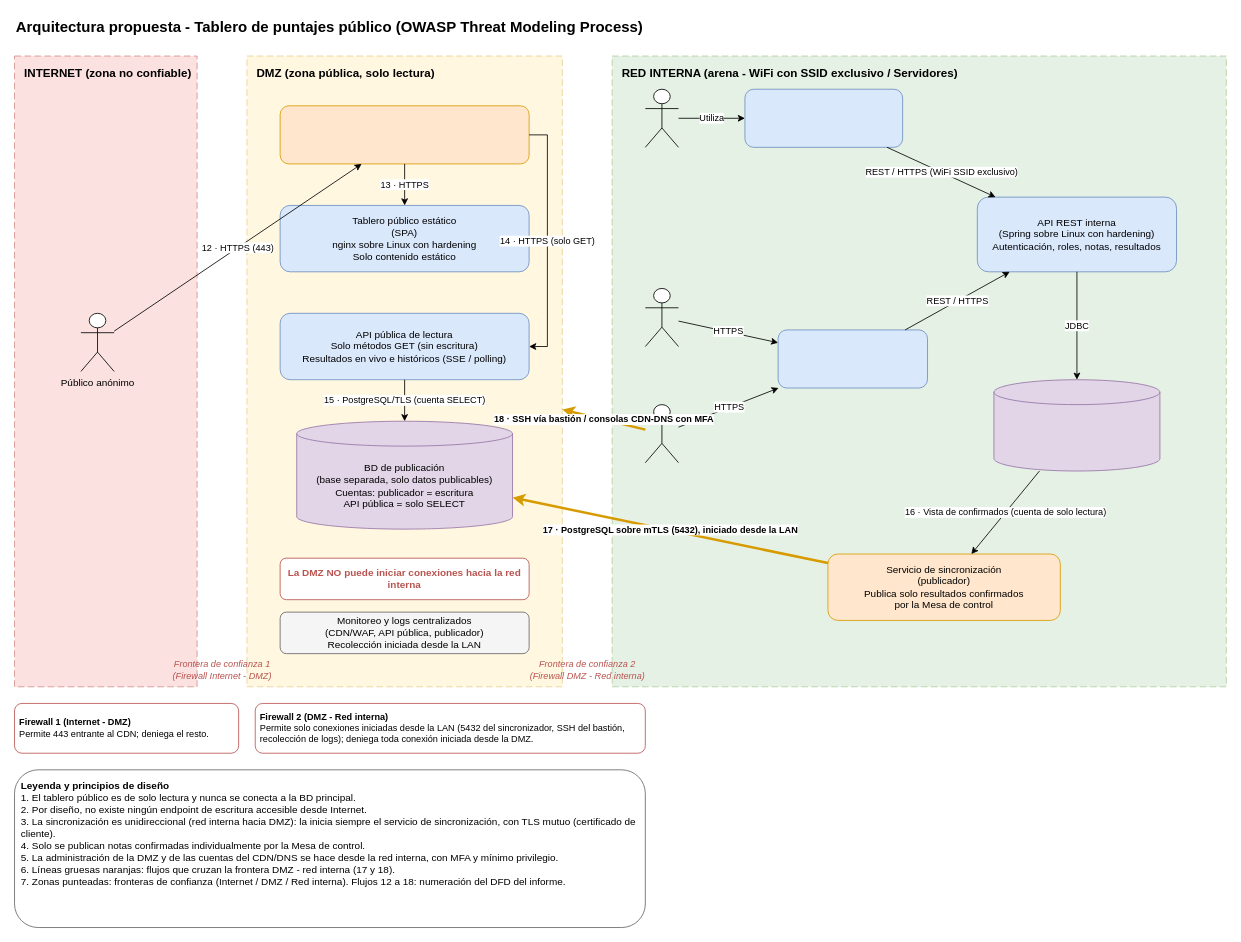
The diagram is 1241 pixels wide and 942 high, and some of its shapes have lost their labels. The shapes that lost their labels are listed below. From the top down, each one's centre as x and y in pixels, then its label:
point 404,134: CDN / WAF / Reverse proxy (TLS 1.2+, HSTS, rate limiting)
point 661,117: Juez
point 823,117: APP Mobile (tableta Android de la federación)
point 661,317: Mesa de control
point 852,358: Web de gestión (SPA) Mesa de control / Admin
point 661,433: Admin
point 1076,425: BD principal (PostgreSQL) Notas, gimnastas, torneos
